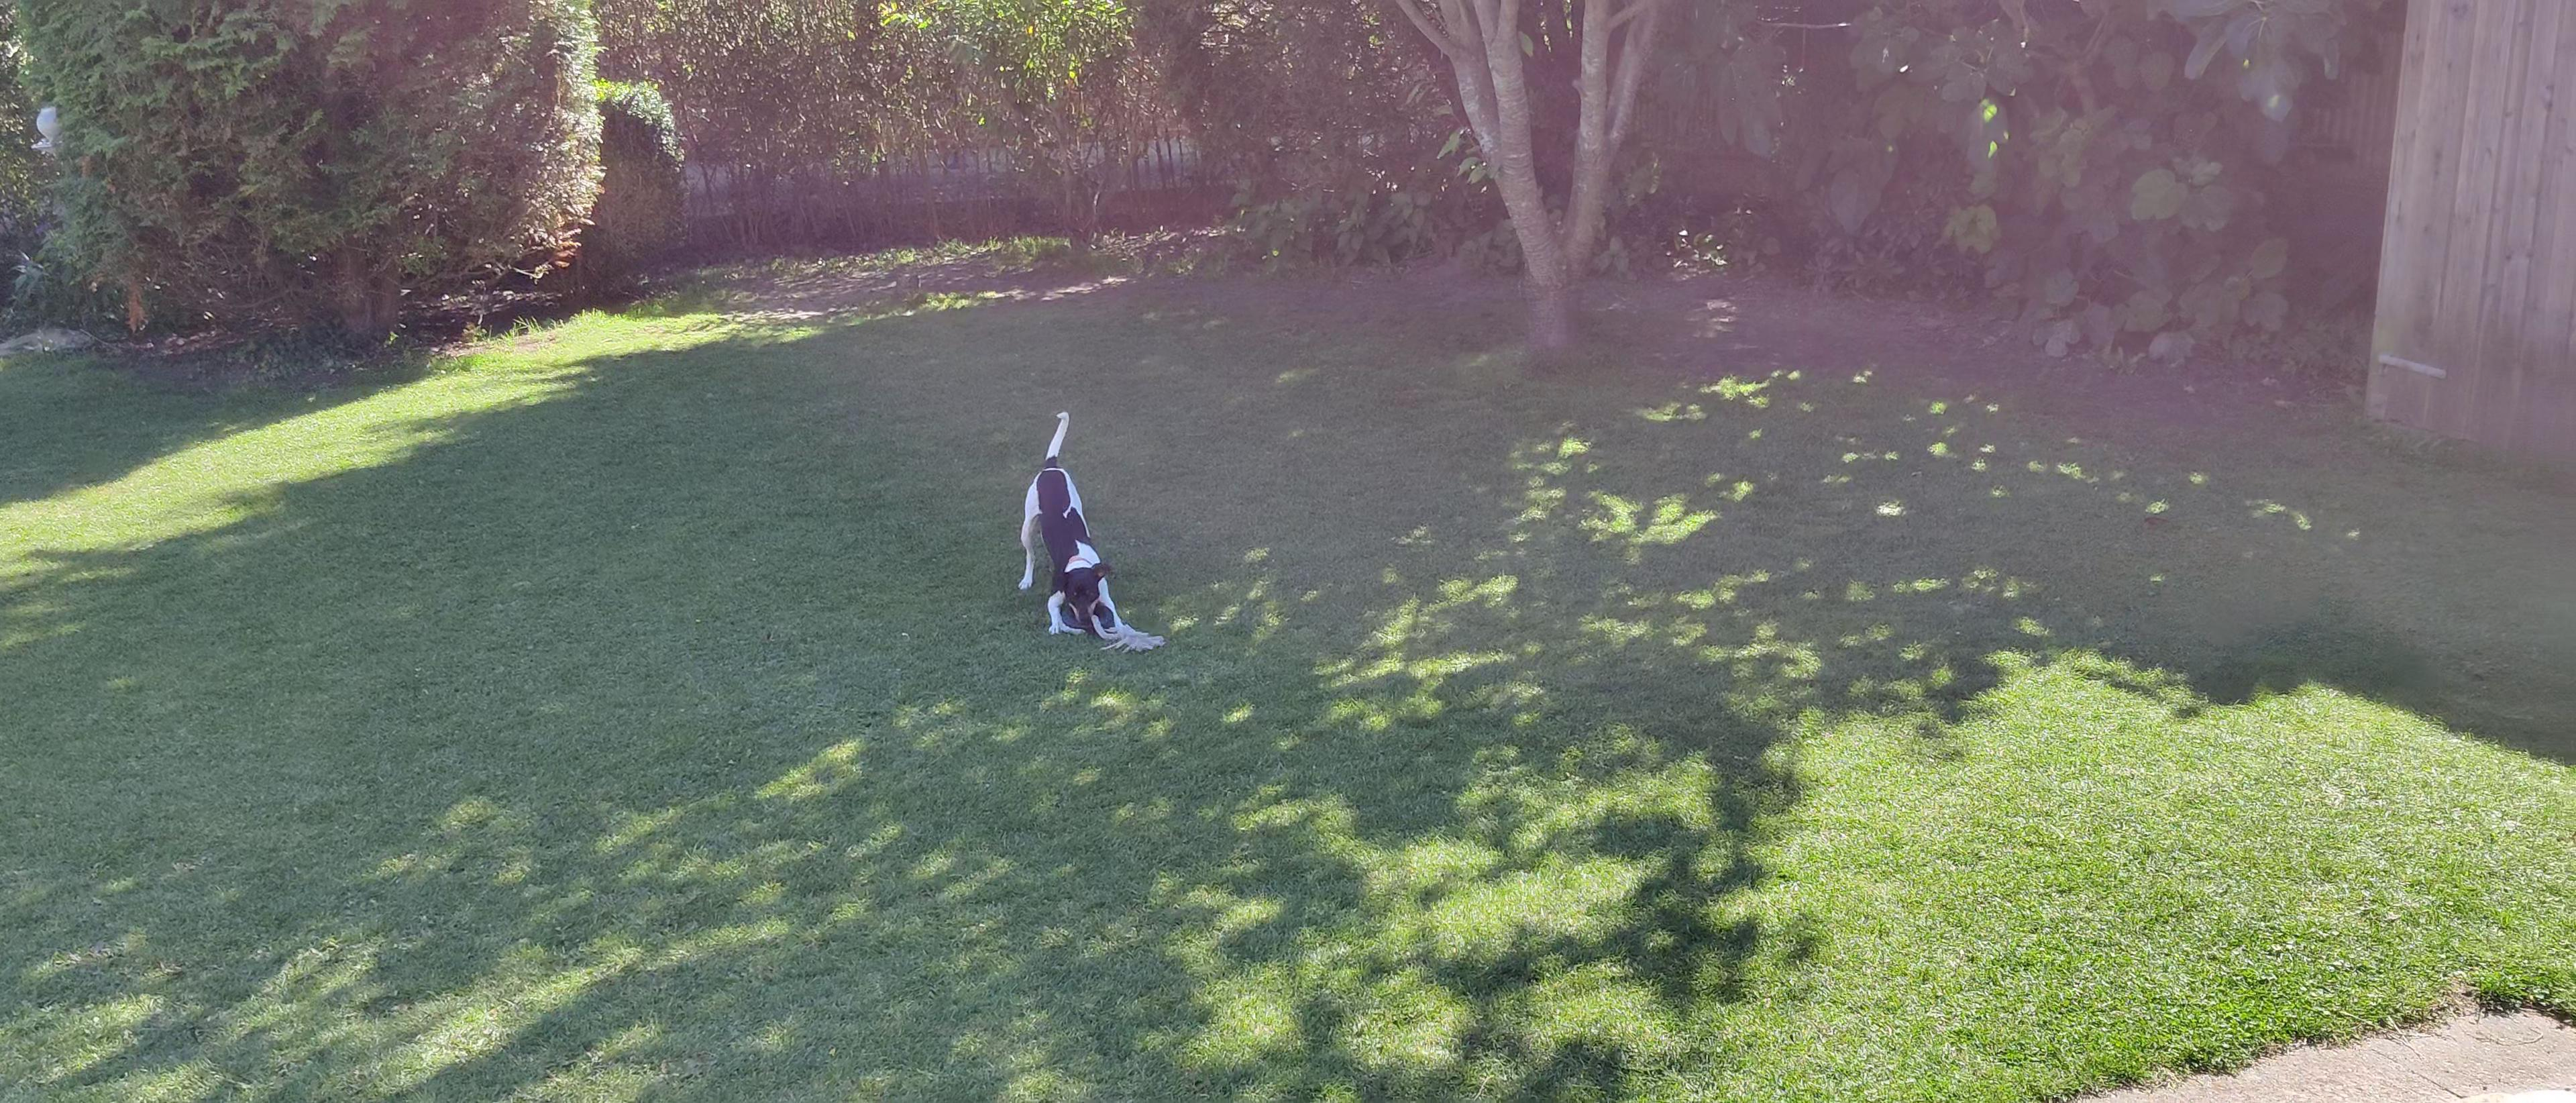Dog: (1004, 403, 1130, 639)
